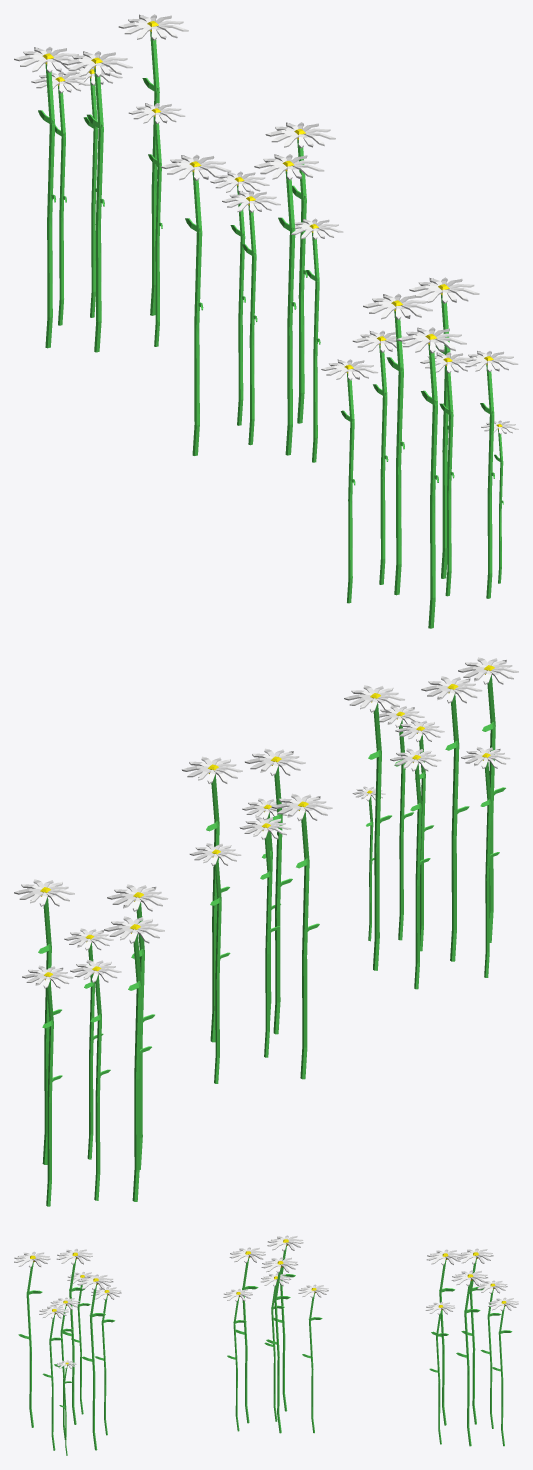
The model's file is margaritas_felices2.fbx.
The picture shows the model from 3 angles, top to bottom: view 1: azimuth 30°, elevation 25°; view 2: azimuth 150°, elevation 25°; view 3: azimuth 270°, elevation 25°; orthographic projection. The views are drawn at different scales.
Parts seen in each view (by area): view 1: Cylinder.027, Cylinder.017, Cylinder.021, Cylinder.015, Cylinder.029, Cylinder.033, Cylinder.022, Cylinder.030, Cylinder.016, Cylinder.026, Cylinder.020, Cylinder.023 (+8 smaller); view 2: Cylinder.027, Cylinder.016, Cylinder.033, Cylinder.015, Cylinder.021, Cylinder.017, Cylinder.030, Cylinder.022, Cylinder.029, Cylinder.020, Cylinder.034, Cylinder.028 (+8 smaller); view 3: Cylinder.017, Cylinder.022, Cylinder.016, Cylinder.030, Cylinder.021, Cylinder.015, Cylinder.029, Cylinder.033, Cylinder.027, Cylinder.028, Cylinder.034, Cylinder.026 (+8 smaller).
Boxes of the visible parts, x1=… form: Cylinder.027: x1=161, y1=154, x2=231, y2=455; Cylinder.017: x1=397, y1=327, x2=466, y2=628; Cylinder.021: x1=254, y1=154, x2=324, y2=455; Cylinder.015: x1=363, y1=293, x2=432, y2=595; Cylinder.029: x1=62, y1=51, x2=132, y2=352; Cylinder.033: x1=14, y1=47, x2=79, y2=348; Cylinder.022: x1=265, y1=122, x2=335, y2=423; Cylinder.030: x1=118, y1=14, x2=188, y2=315; Cylinder.016: x1=409, y1=277, x2=479, y2=578; Cylinder.026: x1=222, y1=190, x2=280, y2=445; Cylinder.020: x1=352, y1=330, x2=407, y2=584; Cylinder.023: x1=460, y1=351, x2=518, y2=598; Cylinder.027: x1=271, y1=793, x2=332, y2=1079; Cylinder.016: x1=344, y1=685, x2=404, y2=970; Cylinder.033: x1=104, y1=916, x2=164, y2=1201; Cylinder.015: x1=421, y1=676, x2=482, y2=961; Cylinder.021: x1=244, y1=748, x2=305, y2=1034; Cylinder.017: x1=458, y1=657, x2=518, y2=942; Cylinder.030: x1=14, y1=879, x2=74, y2=1164; Cylinder.022: x1=181, y1=756, x2=242, y2=1042; Cylinder.029: x1=107, y1=884, x2=168, y2=1169; Cylinder.020: x1=390, y1=748, x2=441, y2=989; Cylinder.034: x1=22, y1=965, x2=73, y2=1206; Cylinder.028: x1=189, y1=843, x2=241, y2=1083; Cylinder.017: x1=14, y1=1251, x2=50, y2=1427; Cylinder.022: x1=261, y1=1257, x2=298, y2=1433; Cylinder.016: x1=77, y1=1274, x2=113, y2=1450; Cylinder.030: x1=451, y1=1270, x2=488, y2=1446; Cylinder.021: x1=229, y1=1247, x2=265, y2=1423; Cylinder.015: x1=56, y1=1248, x2=92, y2=1424; Cylinder.029: x1=426, y1=1249, x2=462, y2=1425; Cylinder.033: x1=457, y1=1248, x2=493, y2=1424; Cylinder.027: x1=267, y1=1235, x2=303, y2=1411; Cylinder.028: x1=298, y1=1284, x2=328, y2=1433; Cylinder.034: x1=488, y1=1297, x2=518, y2=1446; Cylinder.026: x1=260, y1=1273, x2=291, y2=1421.
Bounding box in the file's own units: 88.91 × 150 × 358.
